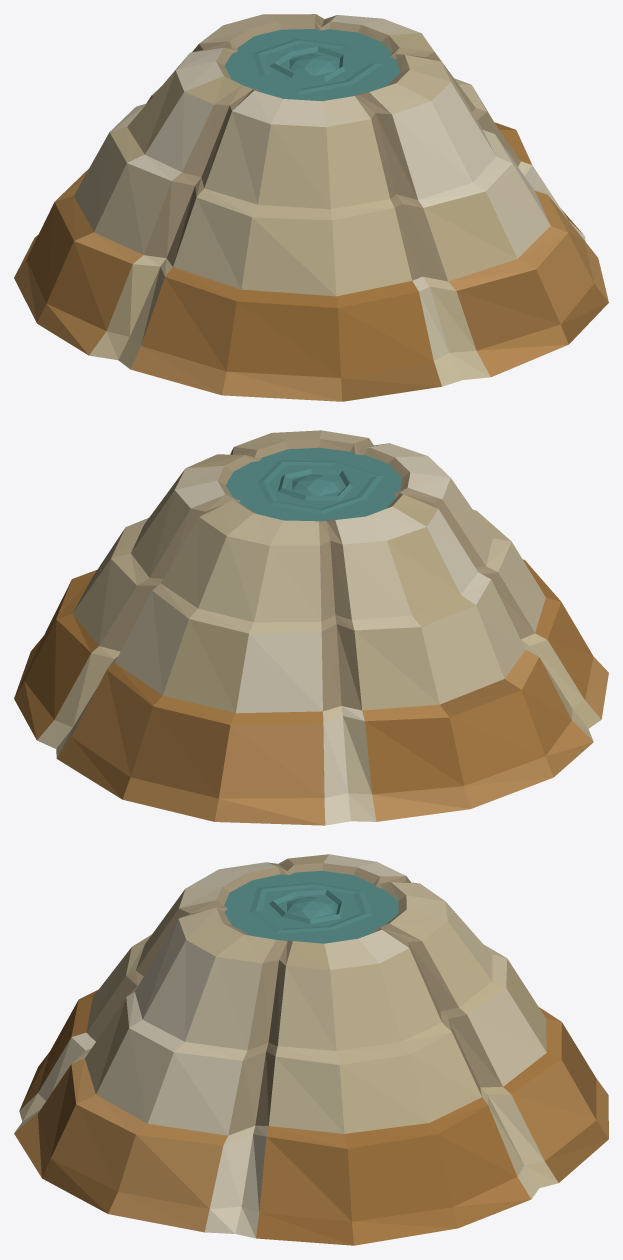
The model's file is geyser-cone-2b5033.glb.
The picture shows the model from 3 angles, top to bottom: view 1: azimuth 30°, elevation 25°; view 2: azimuth 150°, elevation 25°; view 3: azimuth 270°, elevation 25°; orthographic projection.
Visible parts, largest first — view 1: cone, ripple-1, ripple-0, boil; view 2: cone, ripple-1, ripple-0, boil; view 3: cone, ripple-1, ripple-0, boil.
Boxes of the visible parts, x1,y1,x2,y2 form: cone: (14, 14, 608, 401); ripple-1: (252, 38, 382, 94); ripple-0: (270, 46, 346, 81); boil: (289, 54, 335, 75); cone: (14, 430, 608, 825); ripple-1: (257, 460, 383, 513); ripple-0: (278, 469, 353, 500); boil: (292, 474, 339, 495); cone: (14, 854, 608, 1245); ripple-1: (250, 882, 372, 933); ripple-0: (269, 889, 345, 924); boil: (287, 896, 333, 918).
Size of the model in its own units: 3 by 1.21 by 3.
